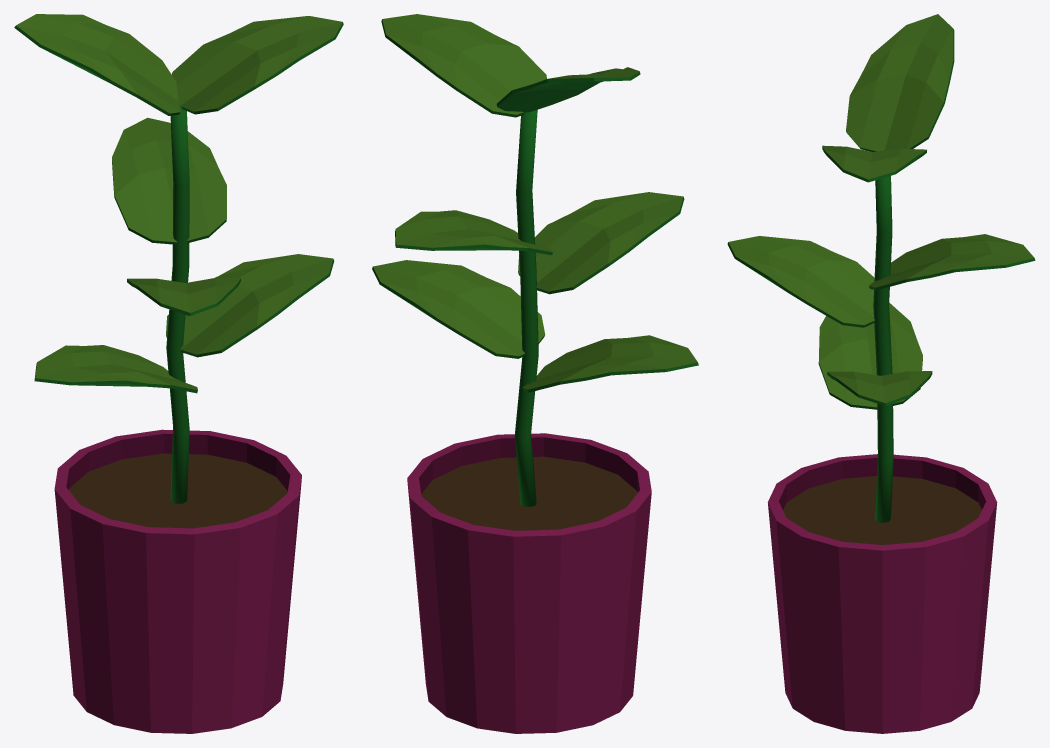
Rendered from Plant4.fbx.
The picture shows the model from 3 angles, left to right: view 1: azimuth 30°, elevation 25°; view 2: azimuth 150°, elevation 25°; view 3: azimuth 270°, elevation 25°; orthographic projection. The views are drawn at different scales.
Parts seen in each view (by area): view 1: Prop_Homeplant_05; view 2: Prop_Homeplant_05; view 3: Prop_Homeplant_05.
Part boxes in pixels (x1=…): Prop_Homeplant_05: x1=14, y1=14, x2=343, y2=733; Prop_Homeplant_05: x1=372, y1=14, x2=698, y2=733; Prop_Homeplant_05: x1=727, y1=14, x2=1035, y2=733.
Size of the model in its own units: 30.52 by 62.38 by 28.1.
1 material, 1 textured.
